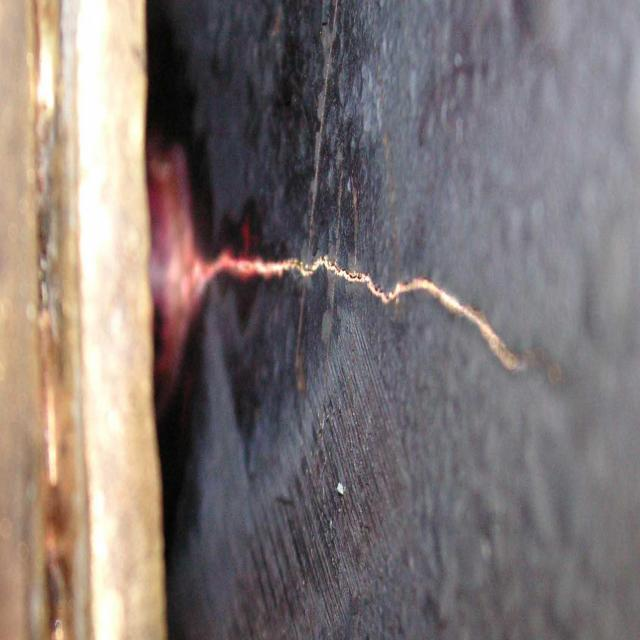Crack: (189, 245, 564, 389)
